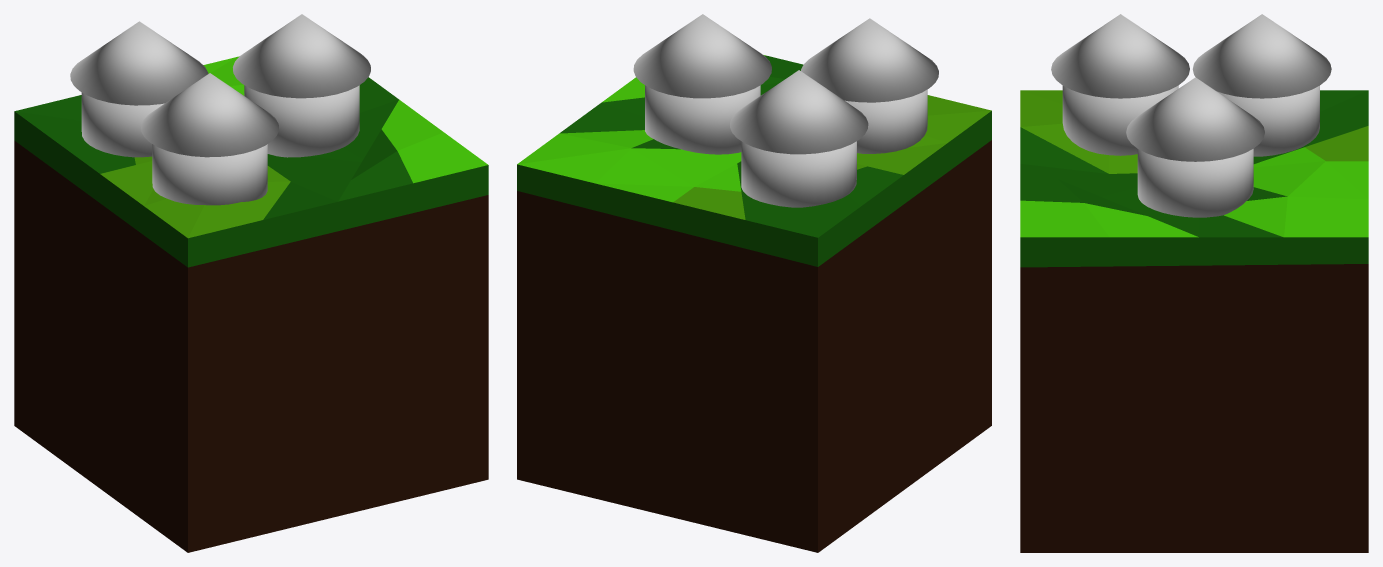
Rendered from village.obj.
The picture shows the model from 3 angles, left to right: view 1: azimuth 30°, elevation 25°; view 2: azimuth 150°, elevation 25°; view 3: azimuth 270°, elevation 25°; orthographic projection.
Parts seen in each view (by area): view 1: grass.002_Cube.021; view 2: grass.002_Cube.021; view 3: grass.002_Cube.021.
Part boxes in pixels (box(x1,y1,x2,y2)): grass.002_Cube.021: box(14, 14, 488, 552); grass.002_Cube.021: box(517, 14, 991, 552); grass.002_Cube.021: box(1020, 14, 1368, 552).
Size of the model in its own units: 2 by 2.71 by 2.
